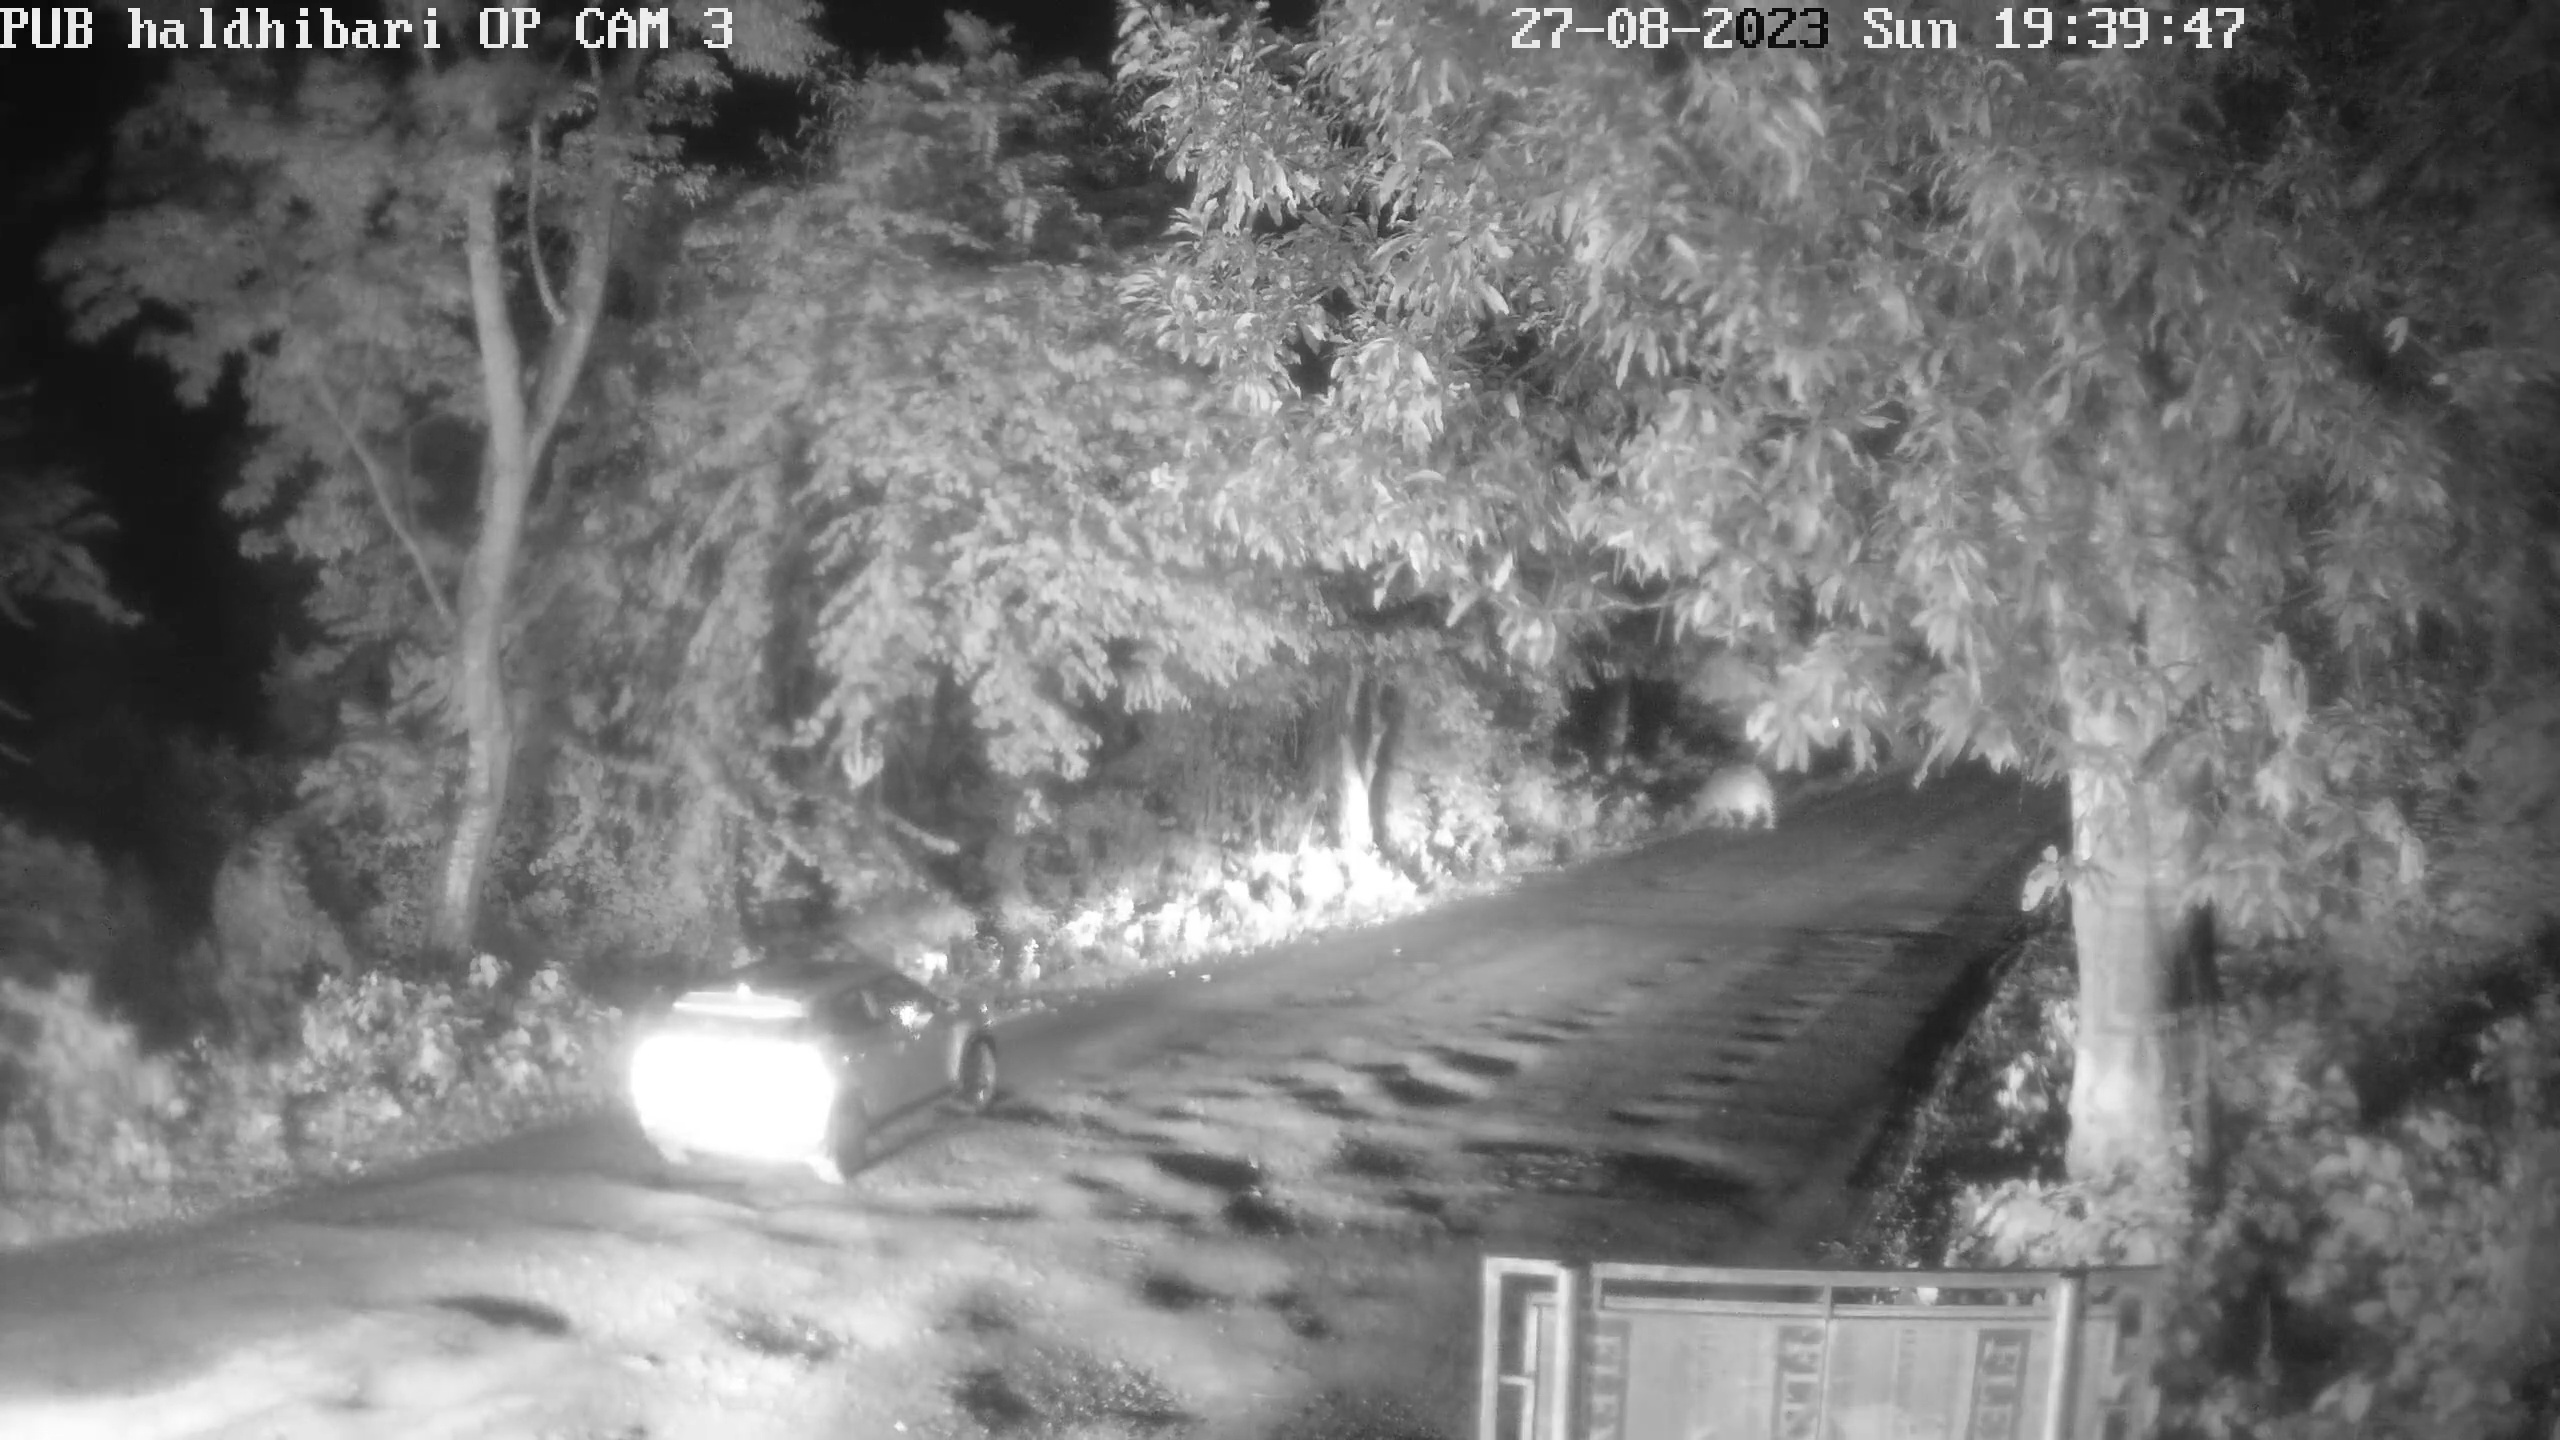rhinos: (1676, 761, 1779, 833)
